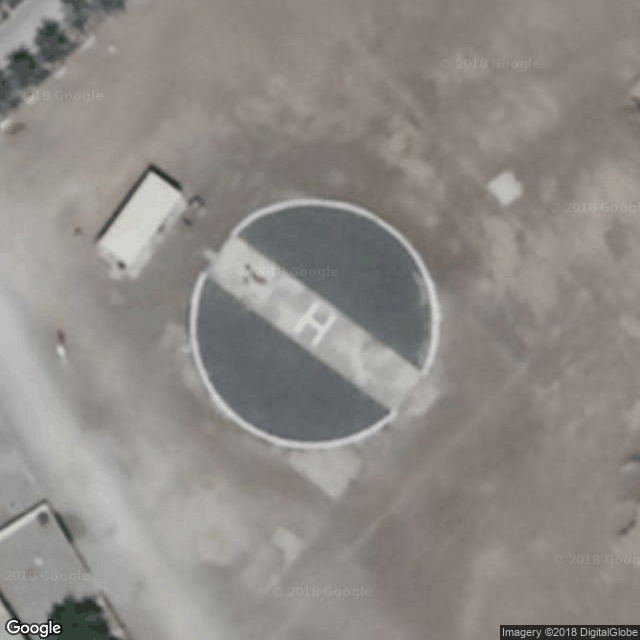heliport: (286, 289, 342, 350)
